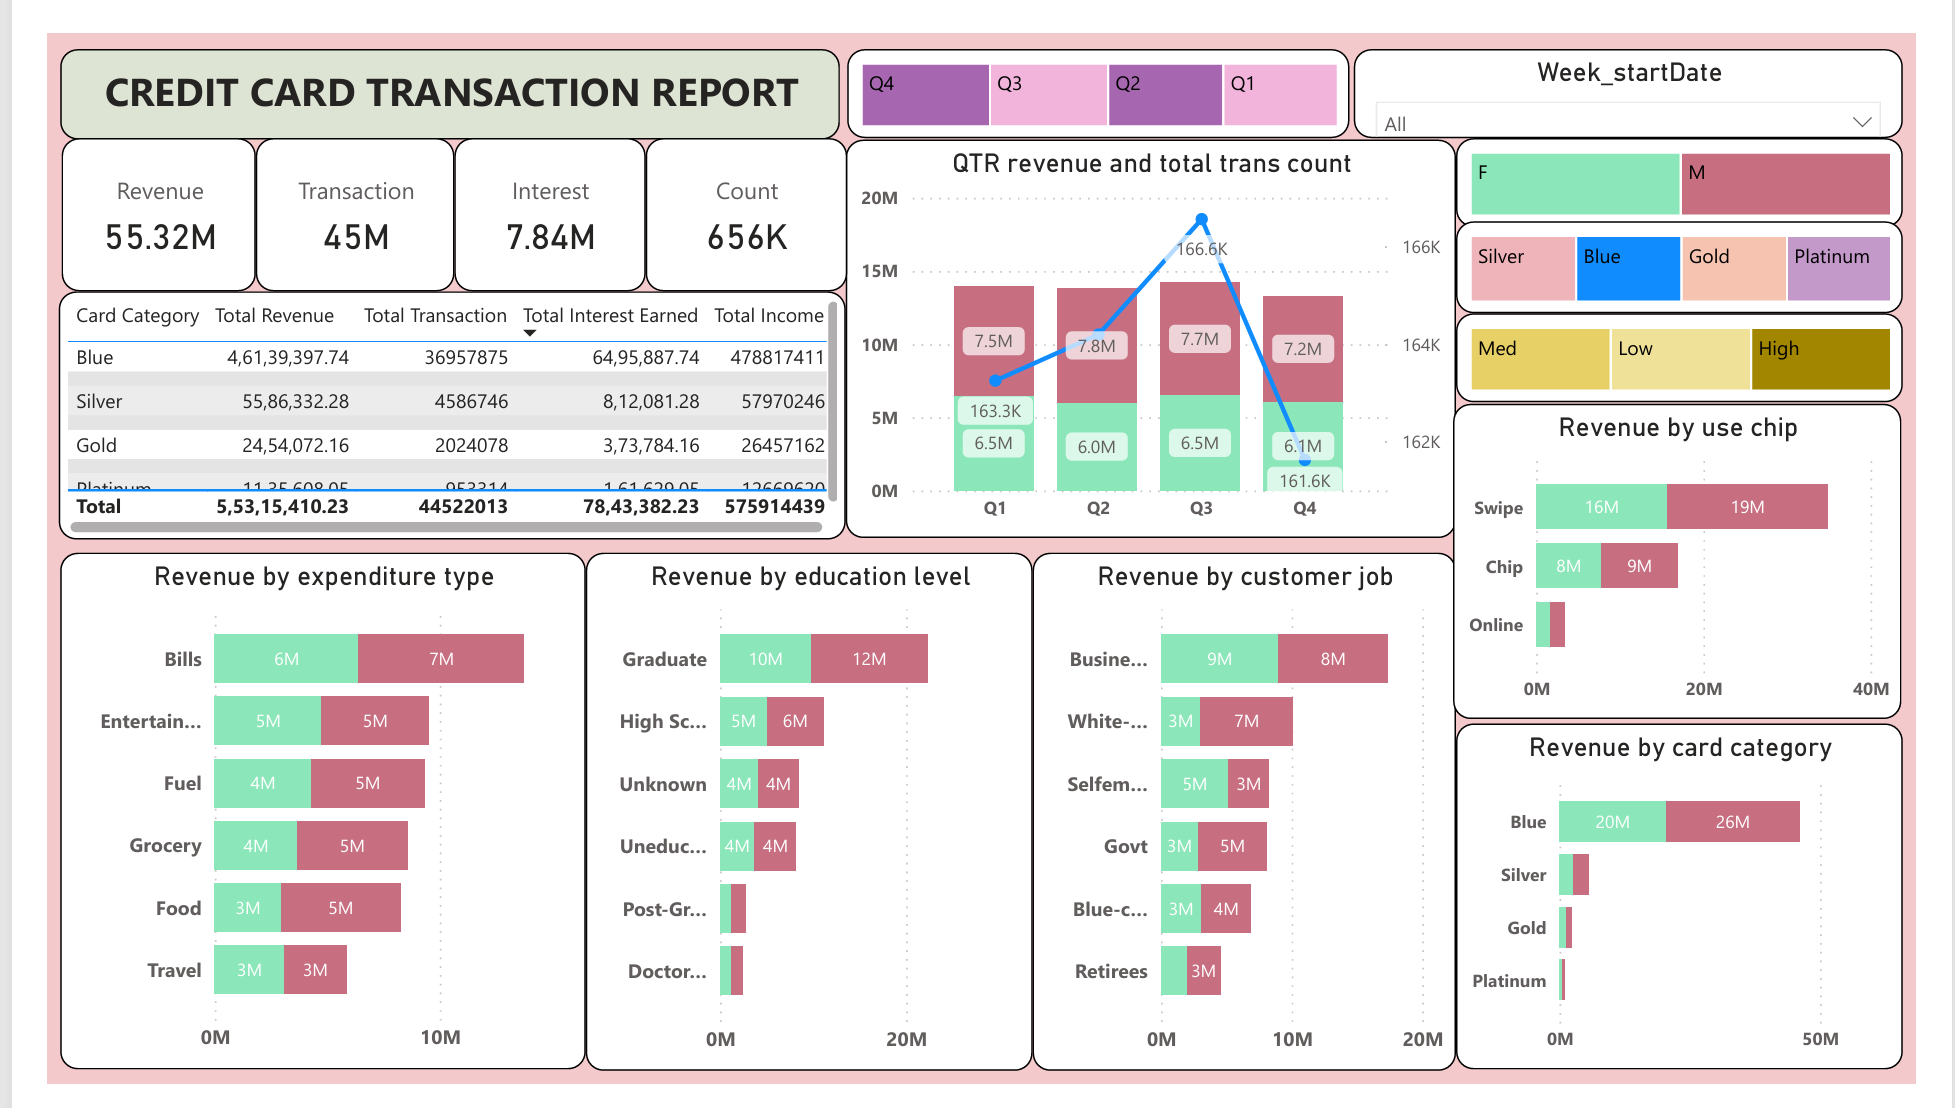

The page's visual inventory and layout, read from the dashboard file:
{"tool":"powerbi","page":{"name":"Transaction","canvas":[1280,720],"ordinal":0},"visuals":[{"type":"textbox","box":[9.1,10.6,534,62.2],"z":0},{"type":"lineStackedColumnComboChart","title":"QTR revenue and total trans count","fields":{"Category":["Credit_card.Qtr"],"Y":["Sum(Credit_card.Revenue)"],"Y2":["Sum(Credit_card.Total_Trans_Vol)"],"Series":["Customer.Gender"]},"box":[547.5,72.8,417.1,273],"z":1000},{"type":"barChart","title":"Revenue by expenditure type","fields":{"Y":["Sum(Credit_card.Revenue)"],"Category":["Credit_card.Exp Type"],"Series":["Customer.Gender"]},"box":[9.1,356.4,359.4,353.4],"z":2000},{"type":"barChart","title":"Revenue by education level","fields":{"Y":["Sum(Credit_card.Revenue)"],"Category":["Customer.Education_Level"],"Series":["Customer.Gender"]},"box":[368.5,356.4,306.4,354.9],"z":3000},{"type":"barChart","title":"Revenue by customer job","fields":{"Y":["Sum(Credit_card.Revenue)"],"Category":["Customer.Customer_Job"],"Series":["Customer.Gender"]},"box":[674.9,356.4,289.7,354.9],"z":4000},{"type":"barChart","title":"Revenue by card category","fields":{"Y":["Sum(Credit_card.Revenue)"],"Category":["Credit_card.Card_Category"],"Series":["Customer.Gender"]},"box":[964.5,473.2,306.4,236.6],"z":5000},{"type":"barChart","title":"Revenue by use chip","fields":{"Y":["Sum(Credit_card.Revenue)"],"Category":["Credit_card.Use Chip"],"Series":["Customer.Gender"]},"box":[962.7,253.7,307.2,216.7],"z":6000},{"type":"tableEx","fields":{"Values":["Credit_card.Card_Category","Sum(Credit_card.Revenue)","Sum(Credit_card.Total_Trans_Amt)","Sum(Credit_card.Interest_Earned)","Sum(Customer.Income)"]},"box":[7.6,177.4,539.9,169.9],"z":7000},{"type":"cardVisual","title":"Revenue","fields":{"Data":["Sum(Credit_card.Revenue)"]},"box":[9.7,72.3,133.4,104.2],"z":8000},{"type":"cardVisual","title":"Total Transaction","fields":{"Data":["Sum(Credit_card.Total_Trans_Amt)"]},"box":[143.2,72.3,136.2,104.2],"z":9000},{"type":"cardVisual","title":"Interest Earned","fields":{"Data":["Sum(Credit_card.Interest_Earned)"]},"box":[279.4,72.3,130.7,104.2],"z":10000},{"type":"cardVisual","title":"Amount","fields":{"Data":["Sum(Credit_card.Total_Trans_Vol)"]},"box":[410,72.3,137.6,104.2],"z":11000},{"type":"slicer","title":"Week_startDate","fields":{"Values":["Credit_card.Week_Start_Date"]},"box":[895.1,11.1,376,61.2],"z":12000},{"type":"treemap","fields":{"Group":["Credit_card.Qtr"],"Values":["Avg(Credit_card.Client_Num)"]},"box":[547.6,11.1,344,61.2],"z":13000},{"type":"treemap","fields":{"Group":["Customer.Gender"],"Values":["Avg(Credit_card.Client_Num)"]},"box":[965,72.3,305.8,61.2],"z":14000},{"type":"treemap","fields":{"Group":["Credit_card.Card_Category"],"Values":["Avg(Credit_card.Client_Num)"]},"box":[965,129.3,305.8,62.5],"z":15000},{"type":"treemap","fields":{"Values":["Avg(Credit_card.Client_Num)"],"Group":["Customer.Income_Group"]},"box":[965,191.8,305.8,61.2],"z":16000}]}

Visuals, with their boxes in screenshot pixels (x1, y1, x2, y2), scaled from the page's 1280x720 canvas onto the 1955x1108 screenshot:
textbox: locate(14, 16, 830, 112)
"QTR revenue and total trans count" lineStackedColumnComboChart: locate(836, 112, 1473, 532)
"Revenue by expenditure type" barChart: locate(14, 548, 563, 1092)
"Revenue by education level" barChart: locate(563, 548, 1031, 1095)
"Revenue by customer job" barChart: locate(1031, 548, 1473, 1095)
"Revenue by card category" barChart: locate(1473, 728, 1941, 1092)
"Revenue by use chip" barChart: locate(1470, 390, 1940, 724)
tableEx - Credit_card.Card_Category x Sum(Credit_card.Revenue): locate(12, 273, 836, 534)
"Revenue" cardVisual: locate(15, 111, 219, 272)
"Total Transaction" cardVisual: locate(219, 111, 427, 272)
"Interest Earned" cardVisual: locate(427, 111, 626, 272)
"Amount" cardVisual: locate(626, 111, 836, 272)
"Week_startDate" slicer: locate(1367, 17, 1941, 111)
treemap - Credit_card.Qtr x Avg(Credit_card.Client_Num): locate(836, 17, 1362, 111)
treemap - Customer.Gender x Avg(Credit_card.Client_Num): locate(1474, 111, 1941, 205)
treemap - Credit_card.Card_Category x Avg(Credit_card.Client_Num): locate(1474, 199, 1941, 295)
treemap - Avg(Credit_card.Client_Num) x Customer.Income_Group: locate(1474, 295, 1941, 389)
